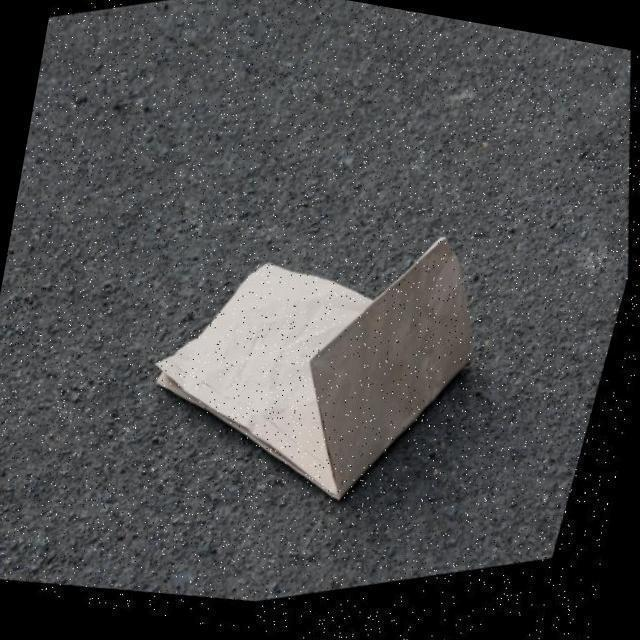Paper_Bag: (102, 181, 539, 592)
